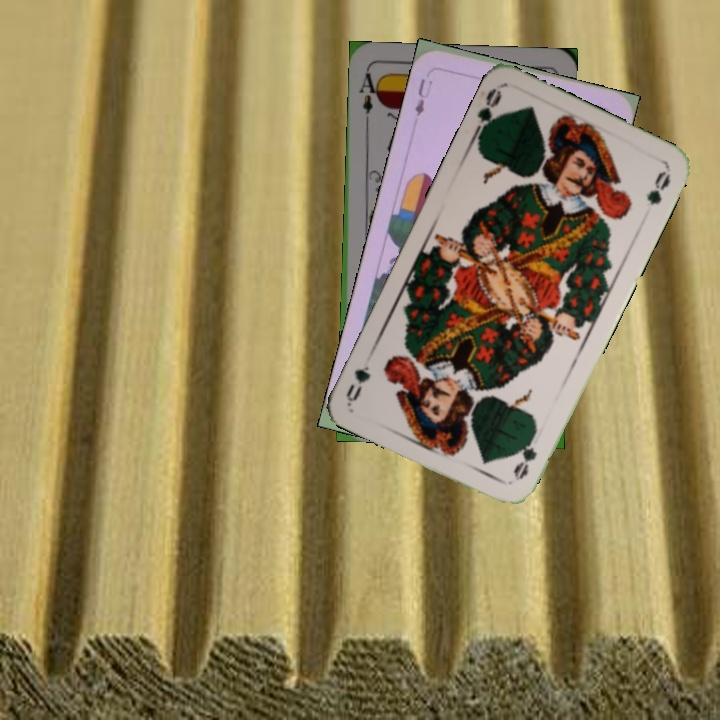EA: (356, 66, 382, 125)
EU: (410, 74, 435, 119)
GO: (468, 84, 505, 143), (509, 427, 540, 483)
